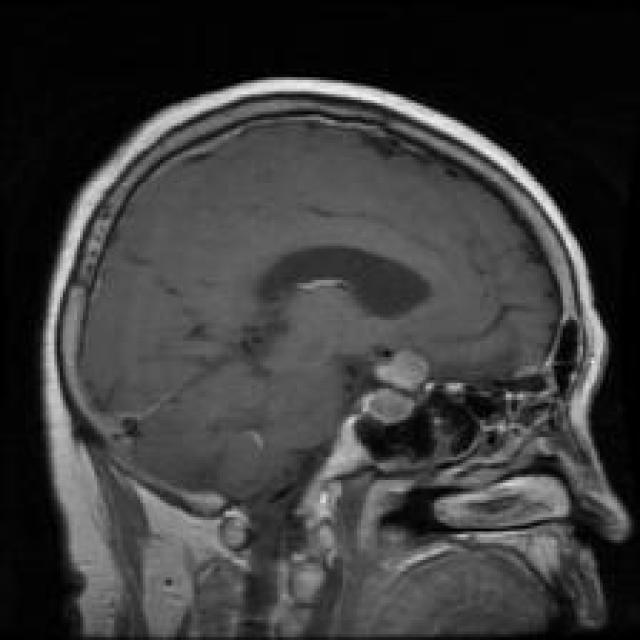pituitary_tumor: (336, 339, 448, 449)
